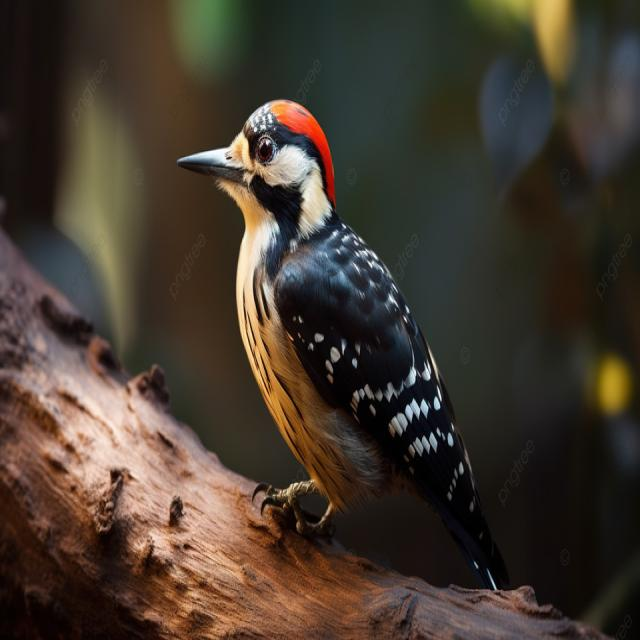Woodpecker: (180, 95, 500, 586)
